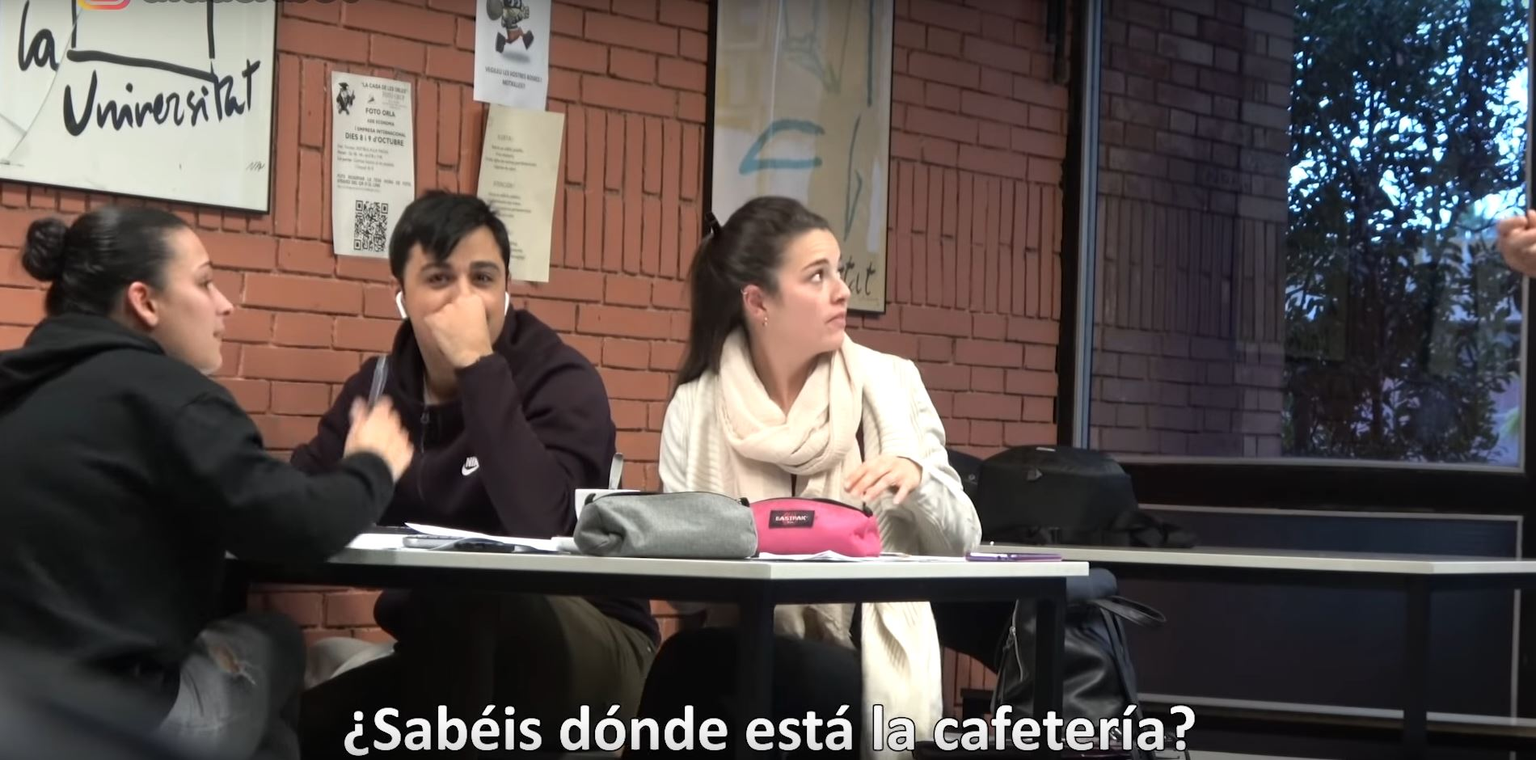cheating: (19, 198, 251, 383), (703, 201, 872, 378)
phone: (965, 552, 1069, 566)
